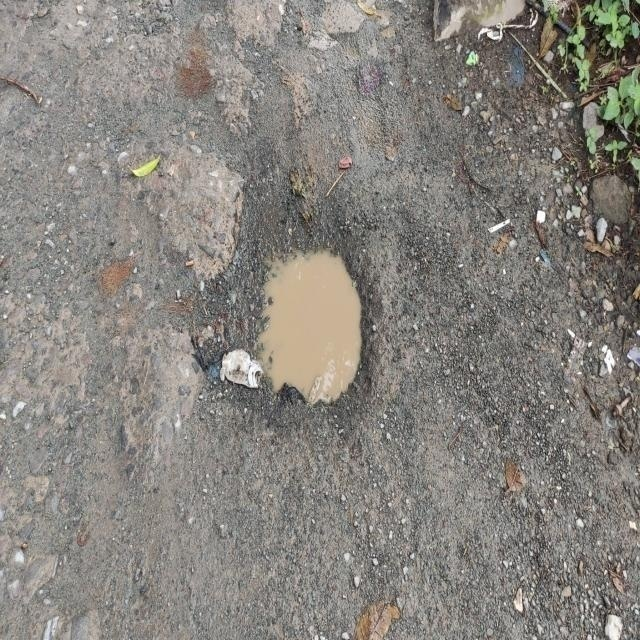pothole: (196, 221, 382, 438)
